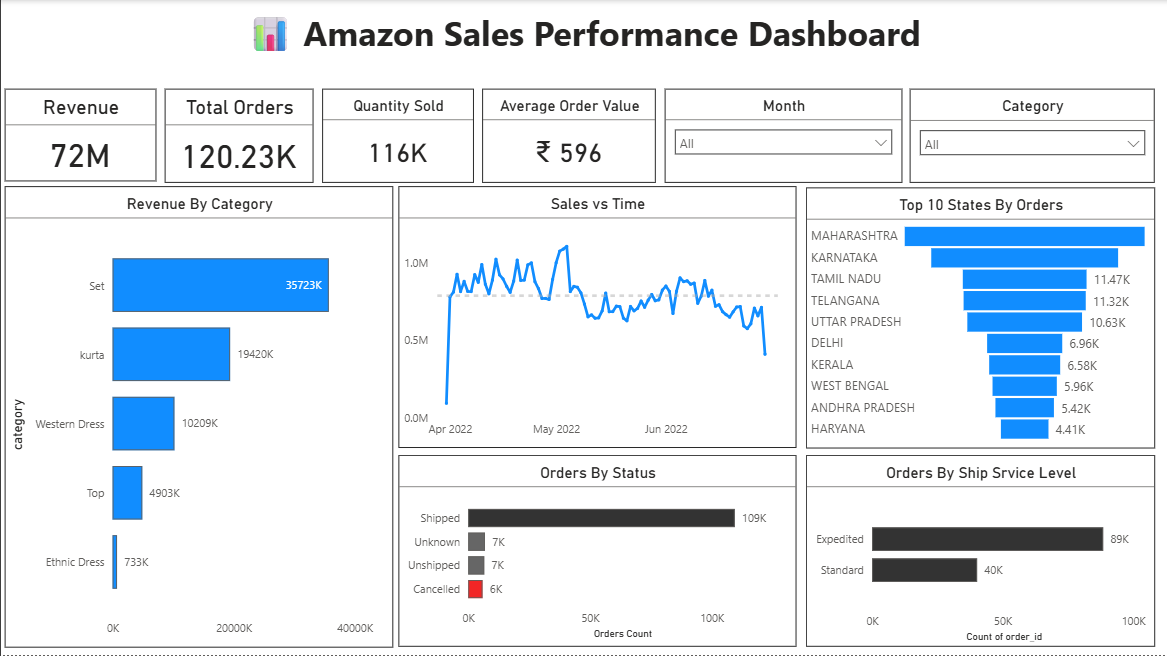

The page's visual inventory and layout, read from the dashboard file:
{"tool":"powerbi","page":{"name":"Page 1","canvas":[1280,720],"ordinal":0},"visuals":[{"type":"card","title":"Revenue","fields":{"Values":["Sum(amazon_sales_clean.amount)"]},"box":[4.1,97.4,166,101.5],"z":0},{"type":"card","title":"Quantity Sold","fields":{"Values":["Sum(amazon_sales_clean.qty)"]},"box":[352.7,97.4,166,102.9],"z":1000},{"type":"card","title":"Total Orders","fields":{"Values":["Count(amazon_sales_clean.order_id)"]},"box":[179.8,97.4,163.3,102.9],"z":2000},{"type":"slicer","title":"Category","fields":{"Values":["amazon_sales_clean.category"]},"box":[997.6,97.4,269,102.9],"z":3000},{"type":"clusteredBarChart","title":"Revenue By Category","fields":{"Y":["Sum(amazon_sales_clean.amount)"],"Category":["amazon_sales_clean.category"]},"box":[3.7,204,426.7,506.3],"z":4000},{"type":"lineChart","title":"Sales vs Time","fields":{"Category":["amazon_sales_clean.date"],"Y":["Sum(amazon_sales_clean.amount)"]},"box":[436.6,204,436.6,287.4],"z":5000},{"type":"clusteredBarChart","title":"Orders By Status","fields":{"Category":["amazon_sales_clean.courier_status"],"Y":["CountNonNull(amazon_sales_clean.order_id)"]},"box":[436.6,500.1,436.6,210.2],"z":6000},{"type":"funnel","title":"Top 10 States By Orders","fields":{"Category":["amazon_sales_clean.ship_state"],"Y":["CountNonNull(amazon_sales_clean.order_id)"]},"box":[883.2,205.3,383.1,286.1],"z":7000},{"type":"card","title":"Average Order Value","fields":{"Values":["amazon_sales_clean.Average Order Value"]},"box":[528.3,97.4,190.7,102.9],"z":8000},{"type":"clusteredBarChart","title":"Orders By Ship Srvice Level","fields":{"Category":["amazon_sales_clean.ship_service_level"],"Y":["CountNonNull(amazon_sales_clean.order_id)"]},"box":[883.2,500.1,383.1,210.2],"z":9000},{"type":"textbox","box":[0,0,1280,93.3],"z":10000},{"type":"slicer","title":"Month","fields":{"Values":["amazon_sales_clean.Month"]},"box":[728.6,97.4,260.7,102.9],"z":11000}]}

Visuals, with their boxes in screenshot pixels (x1, y1, x2, y2), scaled from the page's 1280x720 canvas onto the 1167x656 screenshot:
"Revenue" card: bbox(4, 89, 155, 181)
"Quantity Sold" card: bbox(322, 89, 473, 182)
"Total Orders" card: bbox(164, 89, 313, 182)
"Category" slicer: bbox(910, 89, 1155, 182)
"Revenue By Category" clusteredBarChart: bbox(3, 186, 392, 647)
"Sales vs Time" lineChart: bbox(398, 186, 796, 448)
"Orders By Status" clusteredBarChart: bbox(398, 456, 796, 647)
"Top 10 States By Orders" funnel: bbox(805, 187, 1155, 448)
"Average Order Value" card: bbox(482, 89, 656, 182)
"Orders By Ship Srvice Level" clusteredBarChart: bbox(805, 456, 1155, 647)
textbox: bbox(0, 0, 1166, 85)
"Month" slicer: bbox(664, 89, 902, 182)
